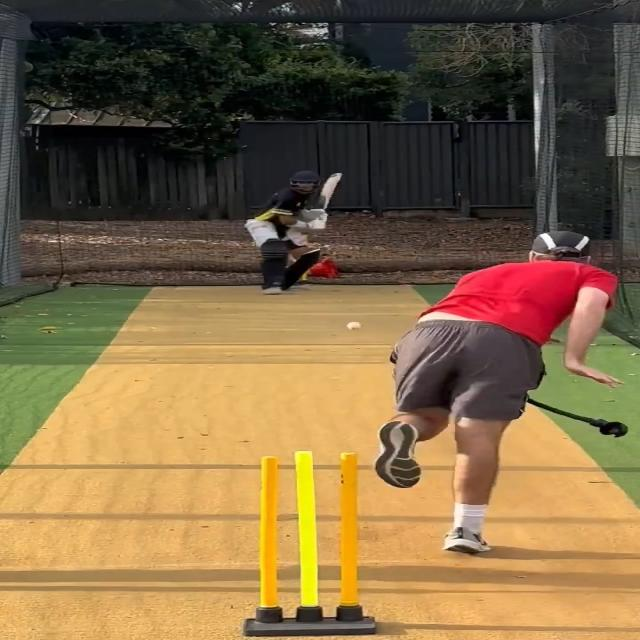ball: (344, 319, 363, 331)
stump: (245, 452, 377, 636)
